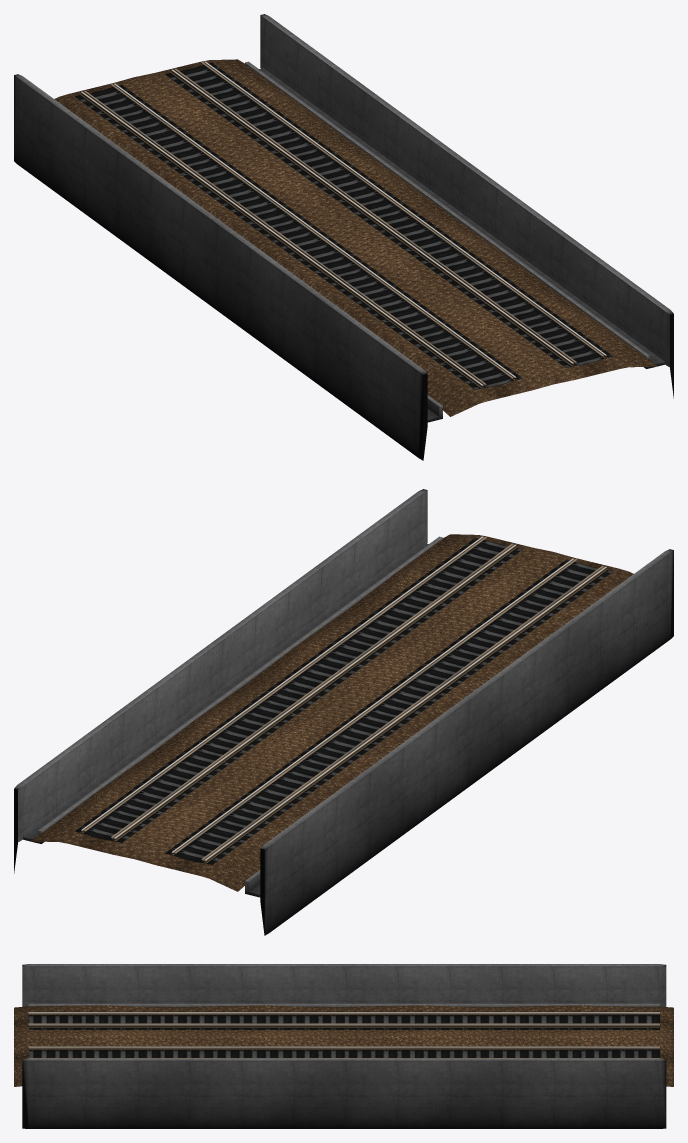
Rendered from HQ_2RAIL_100_WALL.glb.
3 views of the same model, one above another, from view 1: azimuth 30°, elevation 25°; view 2: azimuth 150°, elevation 25°; view 3: azimuth 270°, elevation 25° (orthographic). The views are drawn at different scales.
Parts seen in each view (by area): view 1: Jari_All, R000_RG_R, R000_RG_L; view 2: Jari_All, R000_RG_R, R000_RG_L; view 3: Jari_All, R000_RG_R, R000_RG_L.
Part boxes in pixels (x1=…): Jari_All: x1=14, y1=14, x2=673, y2=460; R000_RG_R: x1=83, y1=68, x2=576, y2=386; R000_RG_L: x1=110, y1=62, x2=603, y2=378; Jari_All: x1=14, y1=489, x2=673, y2=935; R000_RG_R: x1=110, y1=543, x2=604, y2=861; R000_RG_L: x1=83, y1=537, x2=577, y2=854; Jari_All: x1=14, y1=964, x2=673, y2=1128; R000_RG_R: x1=28, y1=1013, x2=659, y2=1049; R000_RG_L: x1=28, y1=1023, x2=659, y2=1058.
Size of the model in its own units: 36.23 by 11.93 by 105.
7 materials, 6 textured.
